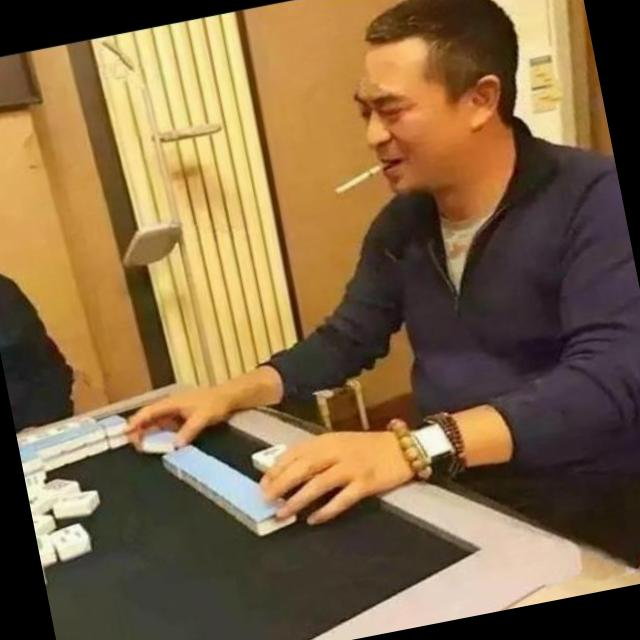smoke: (312, 147, 407, 203)
